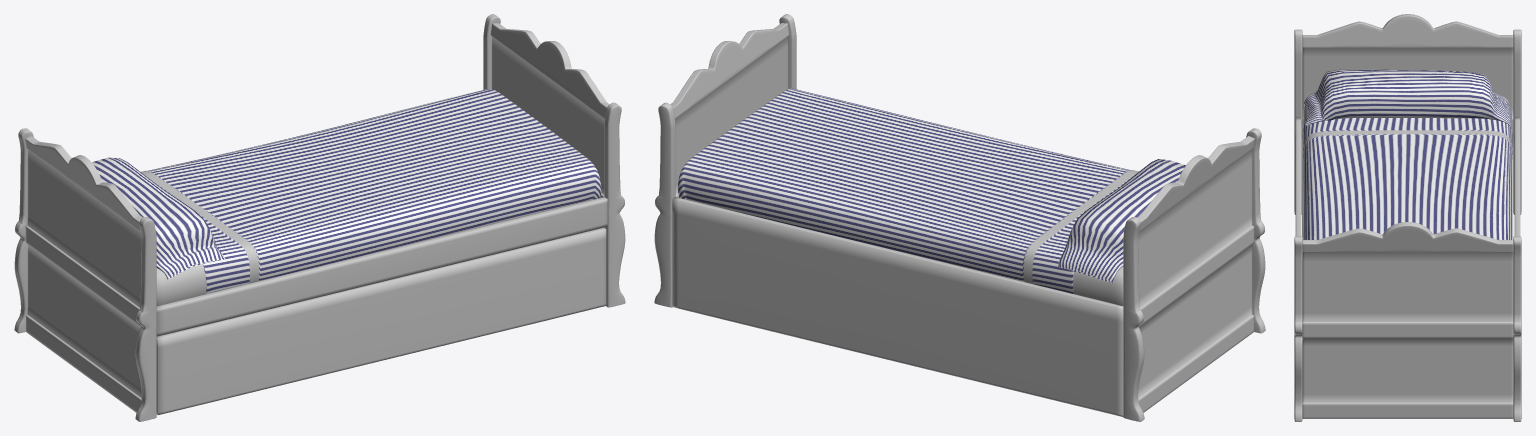
File: children_bed.obj
3 views of the same model, side by side, from view 1: azimuth 30°, elevation 25°; view 2: azimuth 150°, elevation 25°; view 3: azimuth 270°, elevation 25° (orthographic). The views are drawn at different scales.
Parts seen in each view (by area): view 1: Cube, Cube.001, Cube.002_Cube.003; view 2: Cube, Cube.001, Cube.002_Cube.003; view 3: Cube, Cube.001, Cube.002_Cube.003.
Boxes of the visible parts, <box> form: Cube: <box>14,14,625,421</box>; Cube.001: <box>141,88,601,305</box>; Cube.002_Cube.003: <box>92,157,225,279</box>; Cube: <box>654,14,1265,421</box>; Cube.001: <box>677,88,1138,305</box>; Cube.002_Cube.003: <box>1058,159,1185,283</box>; Cube: <box>1294,14,1521,421</box>; Cube.001: <box>1302,95,1512,239</box>; Cube.002_Cube.003: <box>1303,69,1511,128</box>.
Size of the model in its own units: 205 by 87.39 by 91.79.
4 materials, 2 textured.
